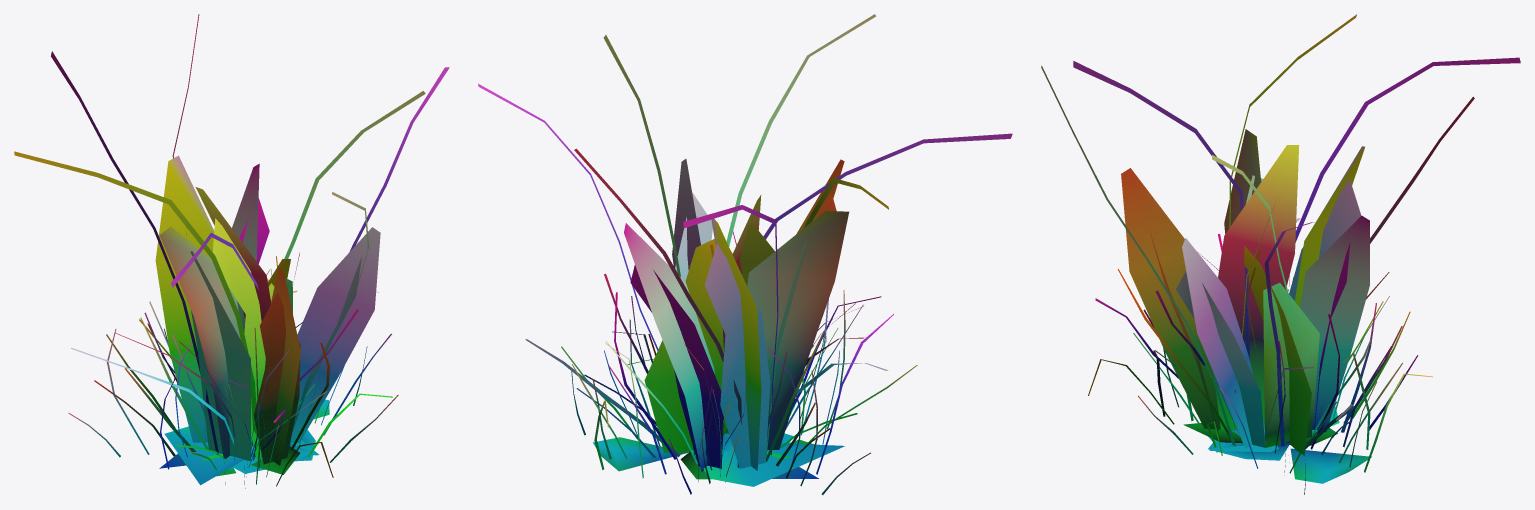
File: uddmcgbia_VarK_LOD0.fbx
The picture shows the model from 3 angles, left to right: view 1: azimuth 30°, elevation 25°; view 2: azimuth 150°, elevation 25°; view 3: azimuth 270°, elevation 25°; orthographic projection. The views are drawn at different scales.
Parts seen in each view (by area): view 1: _8a3d_VarK_LOD1; view 2: _8a3d_VarK_LOD1; view 3: _8a3d_VarK_LOD1.
Part boxes in pixels (bbox=[...]): _8a3d_VarK_LOD1: bbox=[14, 14, 449, 488]; _8a3d_VarK_LOD1: bbox=[478, 14, 1012, 494]; _8a3d_VarK_LOD1: bbox=[1041, 14, 1520, 494].
Size of the model in its own units: 22.85 by 18.65 by 22.25.
